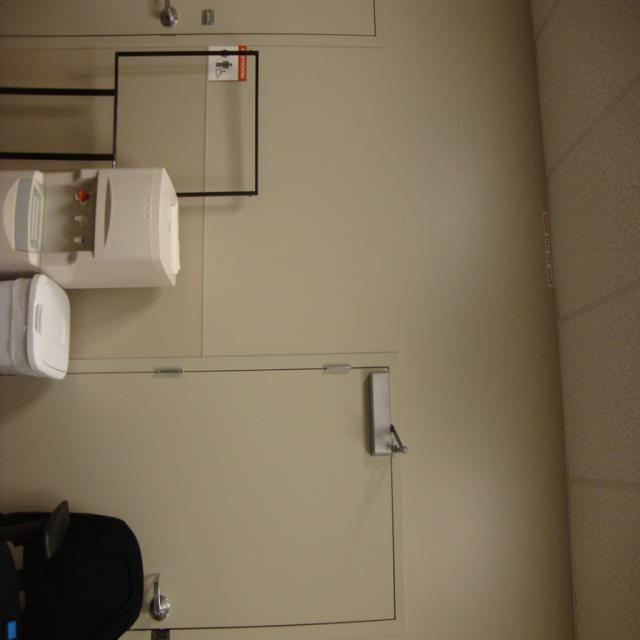door: (0, 351, 402, 640)
